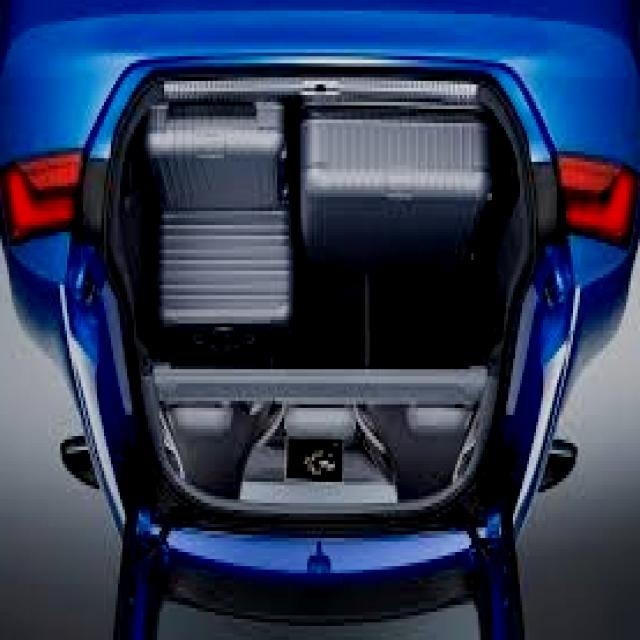blue: (0, 0, 639, 626)
